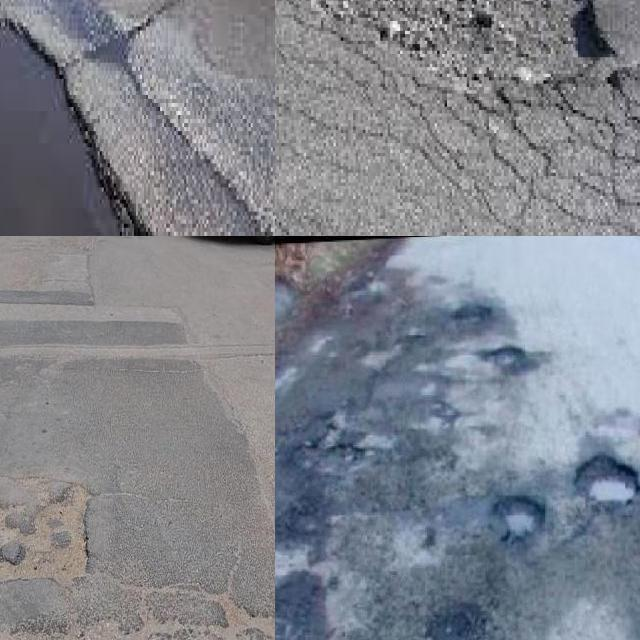Pothole: (0, 21, 135, 236), (0, 484, 87, 592), (575, 454, 640, 512), (275, 570, 328, 640), (292, 429, 367, 474), (403, 394, 463, 450), (492, 496, 542, 542), (426, 603, 486, 640), (478, 345, 532, 371), (353, 434, 395, 455), (452, 303, 493, 321), (362, 352, 393, 371), (423, 526, 435, 547)
